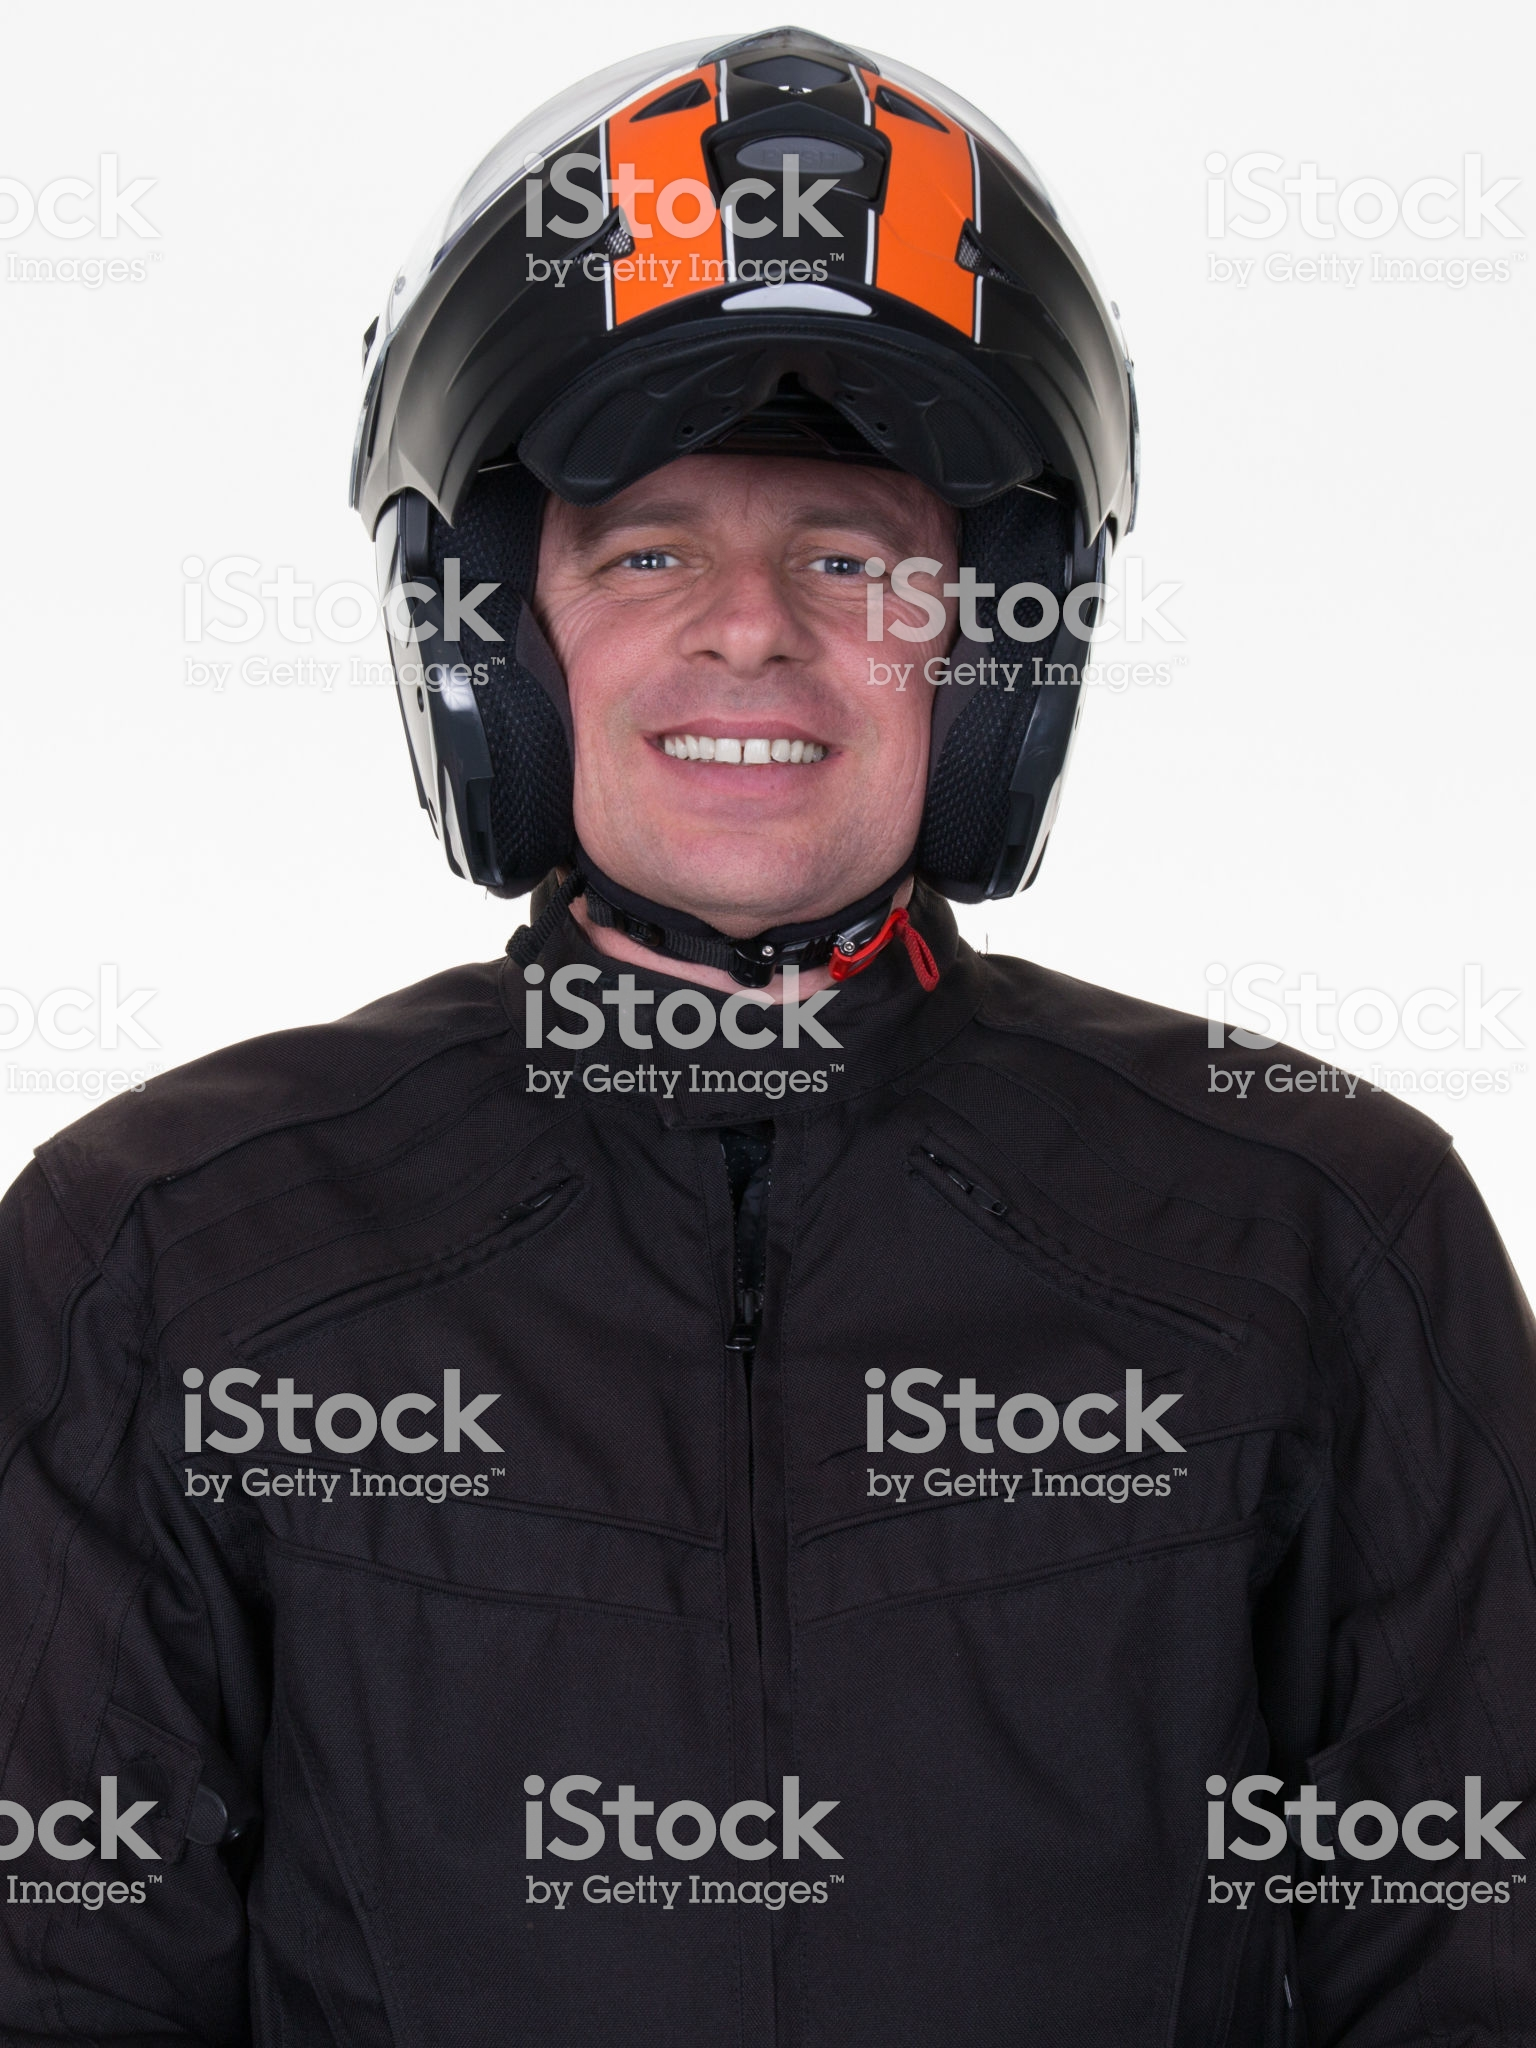helmet: (289, 13, 1117, 800)
